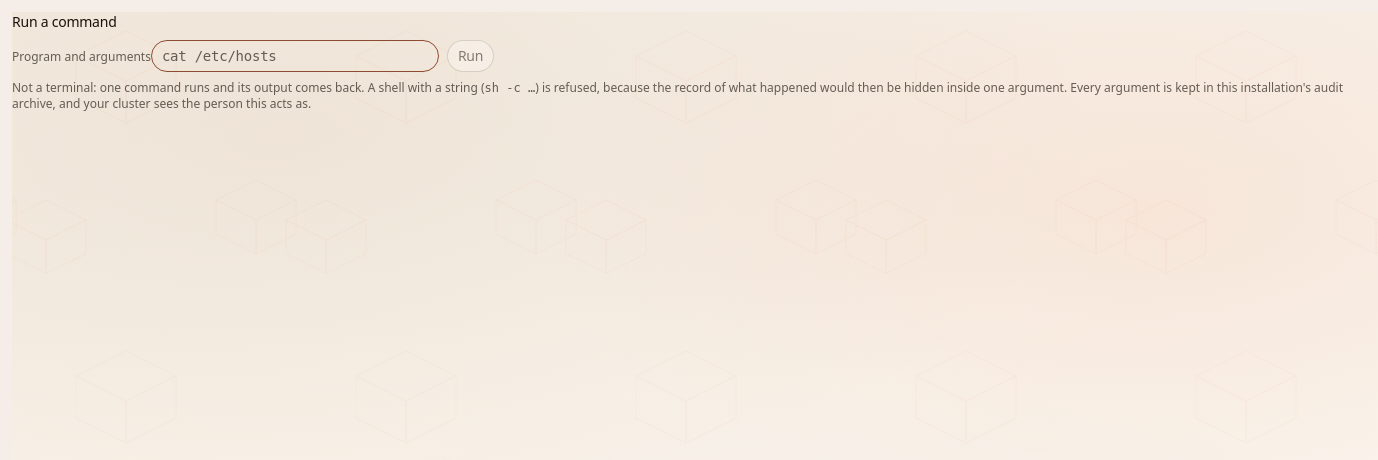
running a command › shows the server’s refusal of a shell rather than hiding it
Type "sh -c whoami" into the field labelled "Program and arguments".
click(295, 56); type("sh -c whoami")  # box [151,40,439,72]
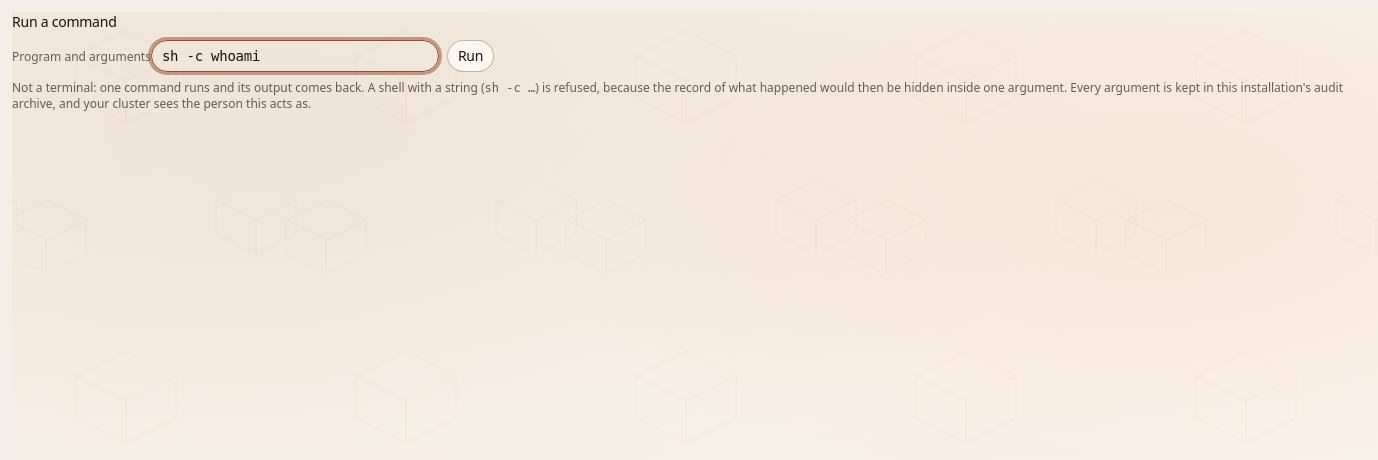
Click the button "Run".
click(471, 56)  # box [447,40,494,72]
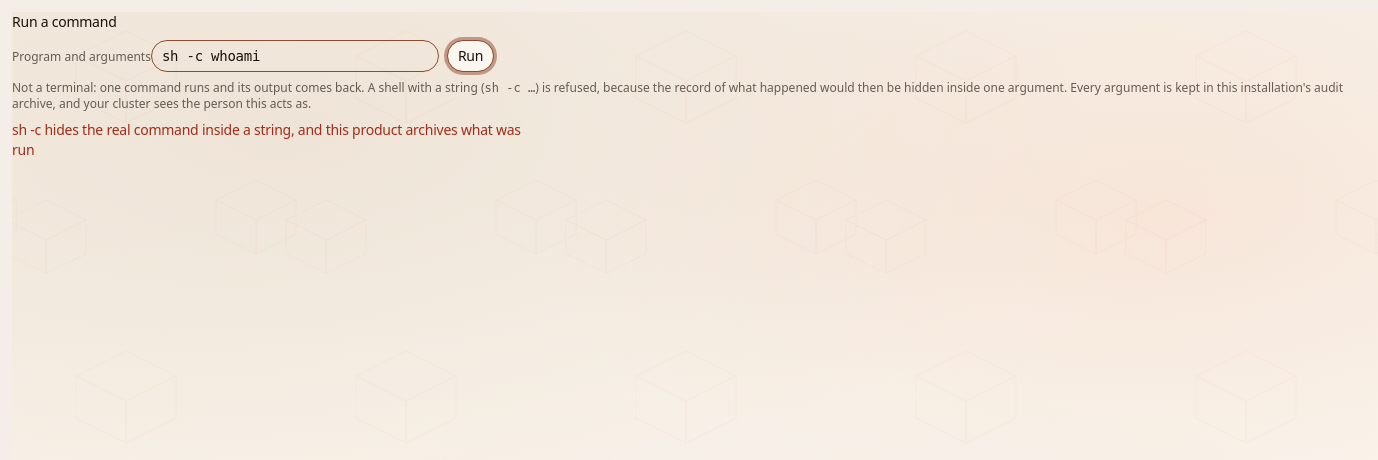
Expected: the text "hides the real command" is shown, [12,120,521,159]
